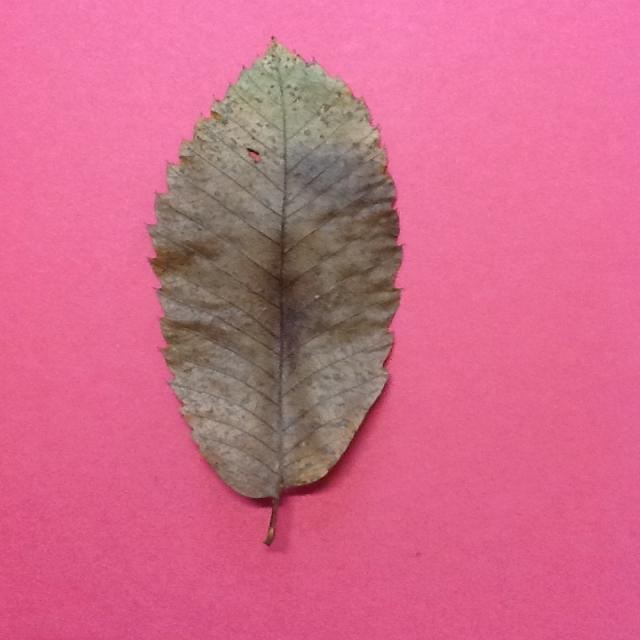foliage: (148, 36, 408, 547)
